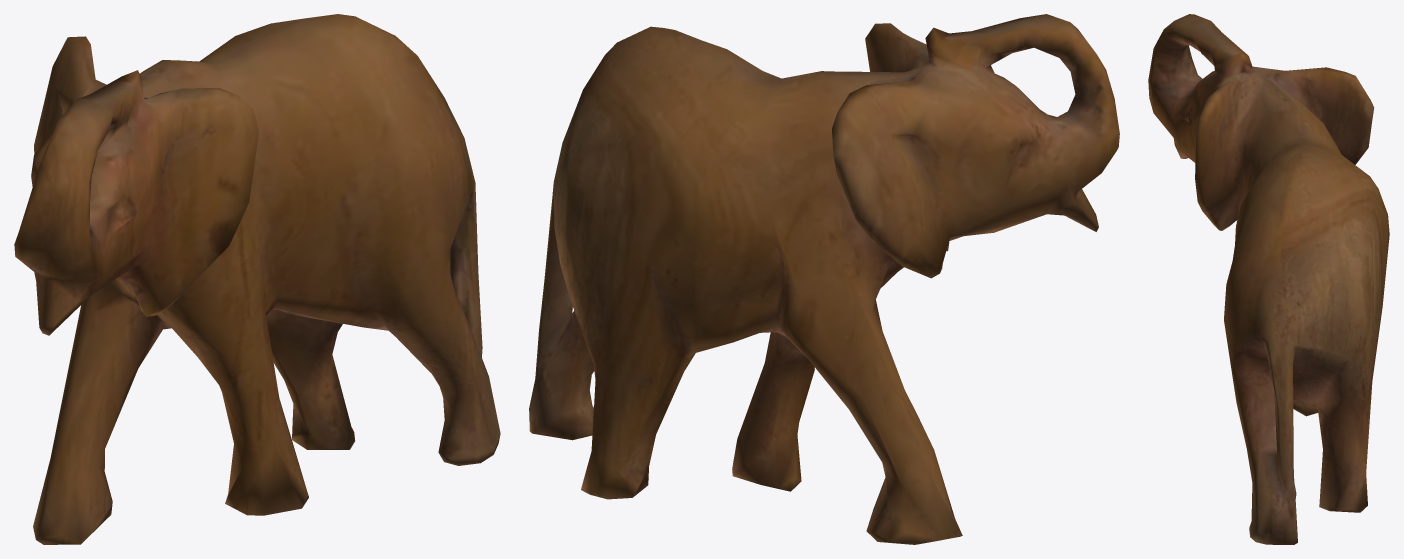
The model's file is carved_wooden_elephant.glb.
The picture shows the model from 3 angles, left to right: view 1: azimuth 30°, elevation 25°; view 2: azimuth 150°, elevation 25°; view 3: azimuth 270°, elevation 25°; orthographic projection. The views are drawn at different scales.
Visible parts, largest first — view 1: carved_wooden_elephant; view 2: carved_wooden_elephant; view 3: carved_wooden_elephant.
Boxes of the visible parts, <box> form: carved_wooden_elephant: <box>14,14,500,544</box>; carved_wooden_elephant: <box>529,14,1119,544</box>; carved_wooden_elephant: <box>1148,14,1389,544</box>.
Bounding box in the file's own units: 0.109 × 0.0961 × 0.0576.
1 material, 1 textured.
